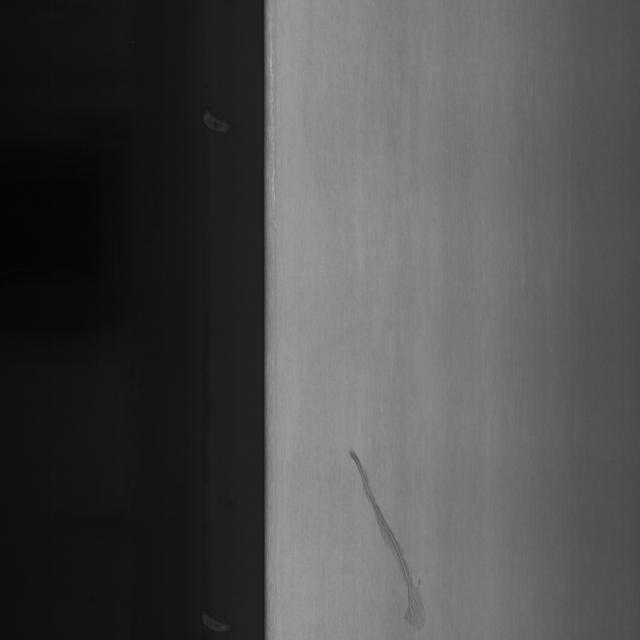water_spot: (345, 428, 437, 632)
